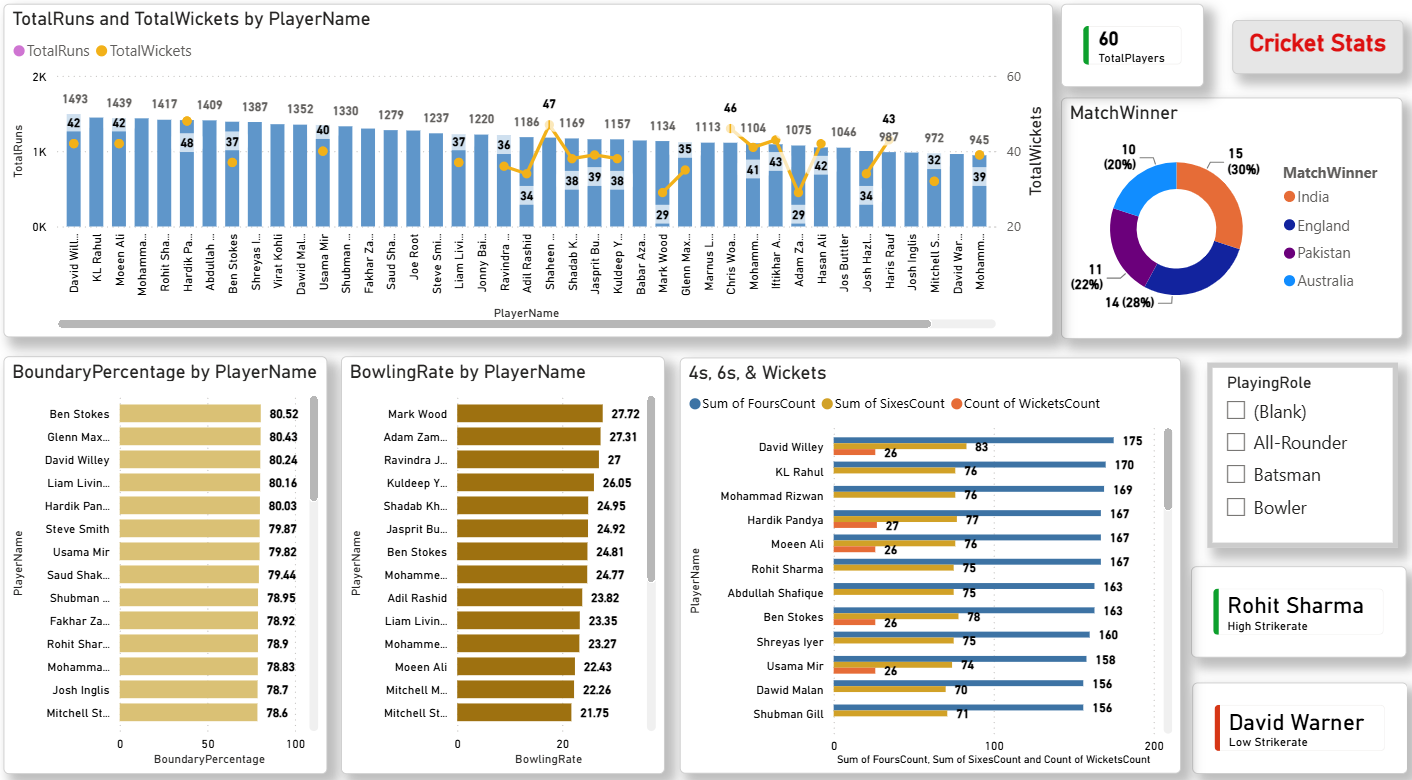

This screenshot's page, from the dashboard's own definition file:
{"tool":"powerbi","page":{"name":"Page 1","canvas":[1280,720],"ordinal":0},"visuals":[{"type":"clusteredBarChart","fields":{"Category":["BatsmanPerformance.PlayerName"],"Y":["Sum(BatsmanPerformance.BoundaryPercentage)"]},"box":[7,330.1,291.9,376.7],"z":0},{"type":"donutChart","title":"MatchWinner","fields":{"Category":["Matches.MatchWinner"],"Y":["CountNonNull(Matches.MatchWinner)"]},"box":[960.5,96.5,308.1,217.4],"z":1000},{"type":"lineStackedColumnComboChart","fields":{"Category":["BatsmanPerformance.PlayerName"],"Y":["Sum(BatsmanPerformance.TotalRuns)"],"Y2":["Sum(BowlerPerformance.TotalWickets)"]},"box":[7,12.8,946.5,301.2],"z":2000},{"type":"slicer","fields":{"Values":["Players.PlayingRole"]},"box":[1091.9,335.9,172.1,167.4],"z":3000},{"type":"clusteredBarChart","title":"BowlingRate by PlayerName","fields":{"Category":["BowlerPerformance.PlayerName"],"Y":["Sum(BowlerPerformance.BowlingStrikeRate)"]},"box":[311.6,330.1,291.9,376.7],"z":4000},{"type":"cardVisual","fields":{"Data":["Min(BatsmanPerformance.PlayerName)"]},"box":[1077.9,519.8,194.2,82.6],"z":7000},{"type":"cardVisual","fields":{"Data":["Min(BatsmanPerformance.PlayerName)"]},"box":[1079.1,624.4,194.2,82.6],"z":8000},{"type":"textbox","box":[1115.1,26.7,154.7,48.8],"z":8001},{"type":"clusteredBarChart","title":"4s, 6s, & Wickets","fields":{"Category":["Batting.PlayerName"],"Y":["Sum(Batting.FoursCount)","Sum(Batting.SixesCount)","CountNonNull(Batting.WicketsCount)"]},"box":[616.3,331.4,452.3,375.6],"z":8002},{"type":"cardVisual","fields":{"Data":["Count(Players.PlayerID)"]},"box":[960.5,12.8,129.1,75.6],"z":8003}]}

Visuals, with their boxes in screenshot pixels (x1, y1, x2, y2), scaled from the page's 1280x720 canvas onto the 1412x780 screenshot:
clusteredBarChart - BatsmanPerformance.PlayerName x Sum(BatsmanPerformance.BoundaryPercentage): 8,358,330,766
"MatchWinner" donutChart: 1060,105,1399,340
lineStackedColumnComboChart - BatsmanPerformance.PlayerName x Sum(BatsmanPerformance.TotalRuns): 8,14,1052,340
slicer - Players.PlayingRole: 1205,364,1394,545
"BowlingRate by PlayerName" clusteredBarChart: 344,358,666,766
cardVisual - Min(BatsmanPerformance.PlayerName): 1189,563,1403,653
cardVisual - Min(BatsmanPerformance.PlayerName): 1190,676,1405,766
textbox: 1230,29,1401,82
"4s, 6s, & Wickets" clusteredBarChart: 680,359,1179,766
cardVisual - Count(Players.PlayerID): 1060,14,1202,96
